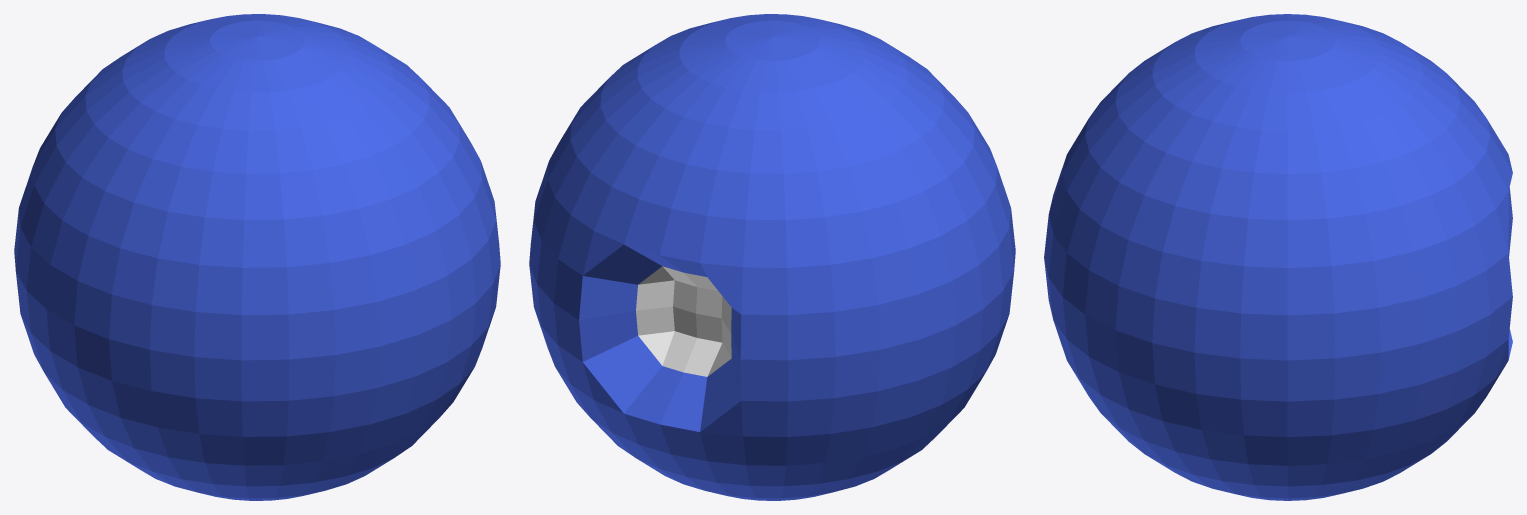
3 views of the same model, side by side, from view 1: azimuth 30°, elevation 25°; view 2: azimuth 150°, elevation 25°; view 3: azimuth 270°, elevation 25° (orthographic).
Parts seen in each view (by area): view 1: Sphere; view 2: Sphere; view 3: Sphere.
Part boxes in pixels (x1,y1,x2,y2): Sphere: (14,14,500,500); Sphere: (529,14,1015,500); Sphere: (1044,14,1512,500).
Bounding box in the file's own units: 100 × 100 × 96.19.
